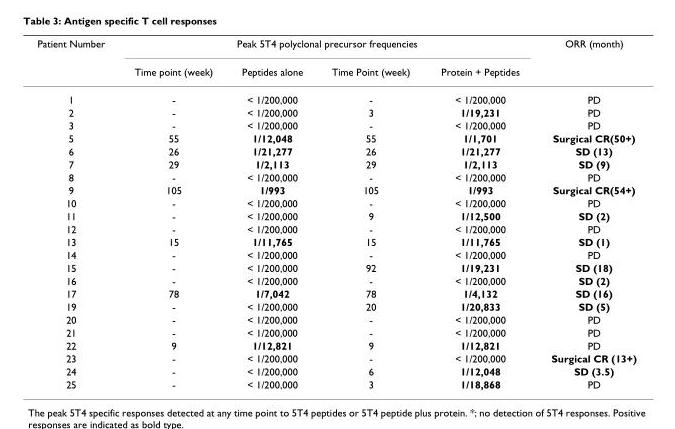table: (36, 37, 635, 390)
table column: (424, 37, 534, 390), (118, 37, 226, 390), (316, 37, 424, 390), (534, 37, 635, 390), (226, 37, 316, 390), (36, 37, 118, 390)
table column header: (36, 37, 635, 85)
table row: (36, 57, 635, 85), (36, 37, 635, 57), (36, 85, 635, 105), (36, 105, 635, 118), (36, 118, 635, 131), (36, 131, 635, 144), (36, 144, 635, 157), (36, 157, 635, 170), (36, 170, 635, 183), (36, 183, 635, 196), (36, 196, 635, 209), (36, 209, 635, 222), (36, 222, 635, 235), (36, 235, 635, 248), (36, 260, 635, 273), (36, 273, 635, 286), (36, 286, 635, 299), (36, 299, 635, 312), (36, 312, 635, 325), (36, 325, 635, 338), (36, 338, 635, 351), (36, 351, 635, 364), (36, 364, 635, 377), (36, 377, 635, 390), (36, 248, 635, 260)
table spanning cell: (118, 37, 534, 57), (534, 37, 635, 85), (36, 37, 118, 85)
